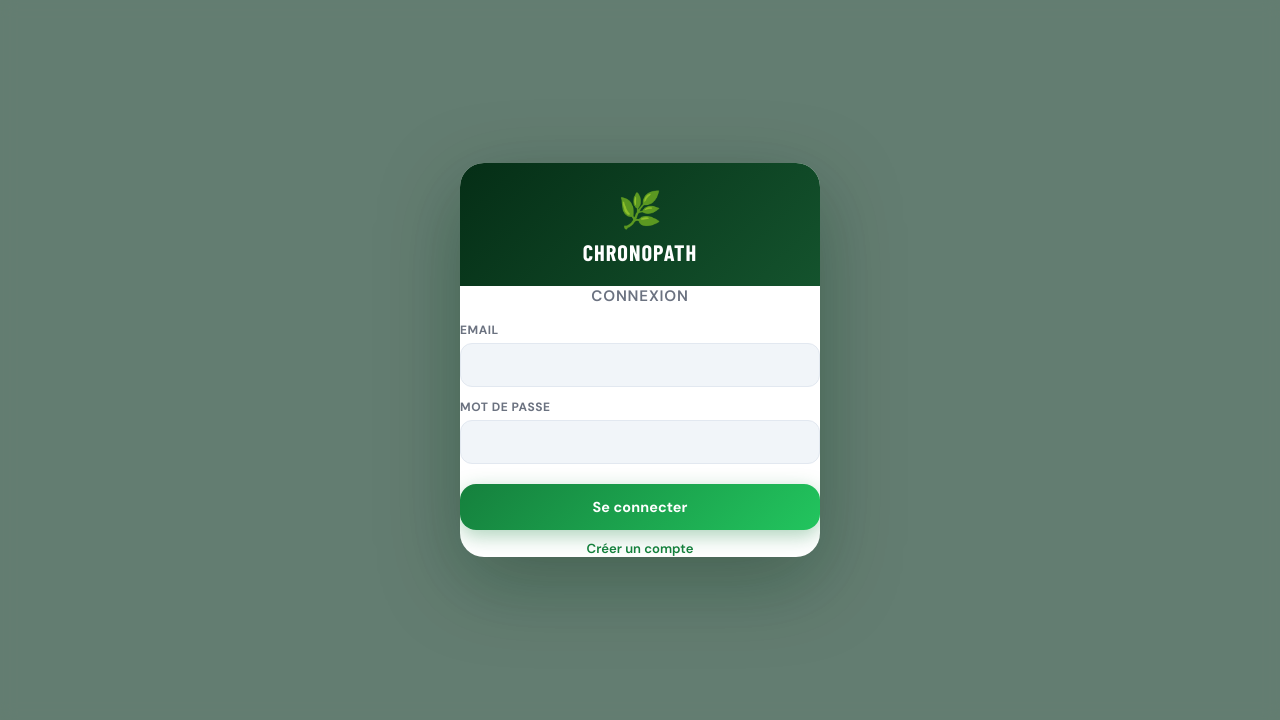
Scenario: switches to register form when clicking créer un compte
Click the button "Créer un compte" at (640, 544), box top-left (460, 530), bottom-right (820, 557)
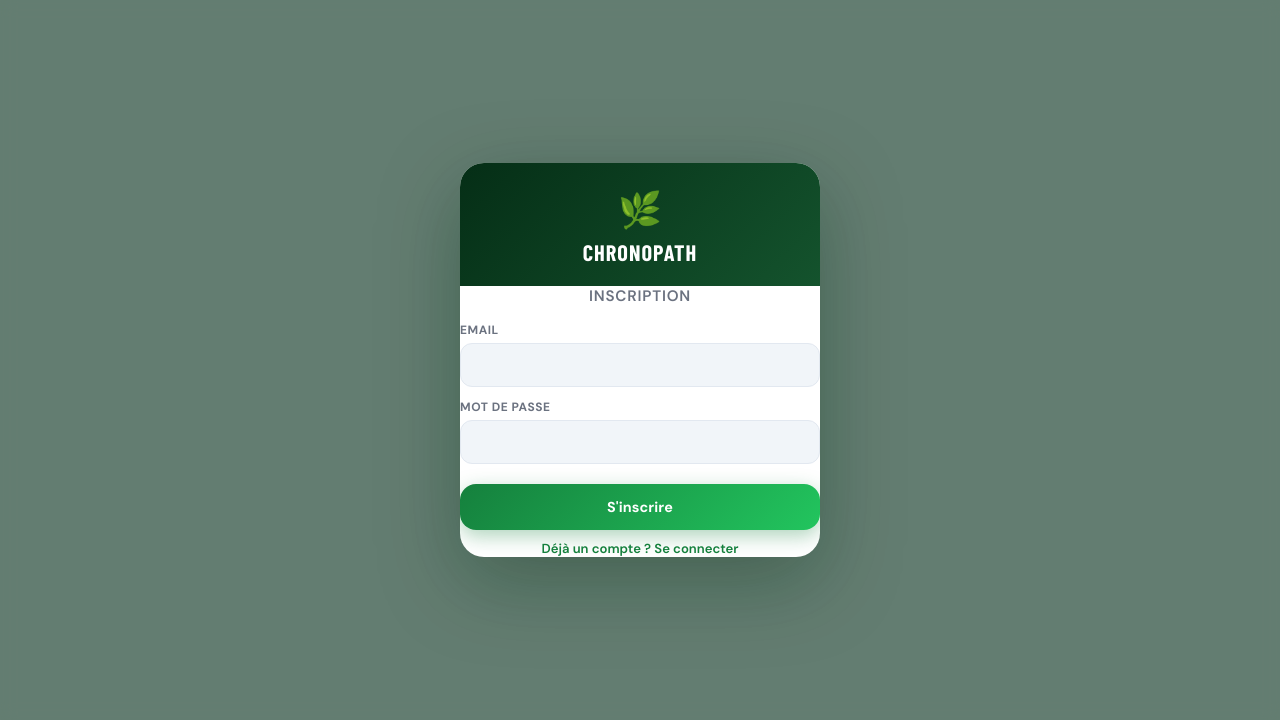
Expected: the heading "Inscription" is shown, top-left (589, 286), bottom-right (691, 306)
